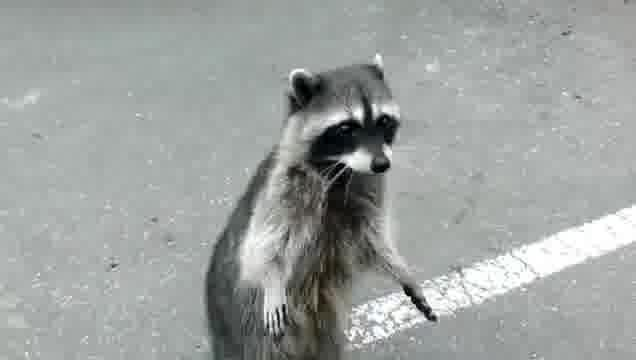raccoon: (205, 53, 441, 360)
